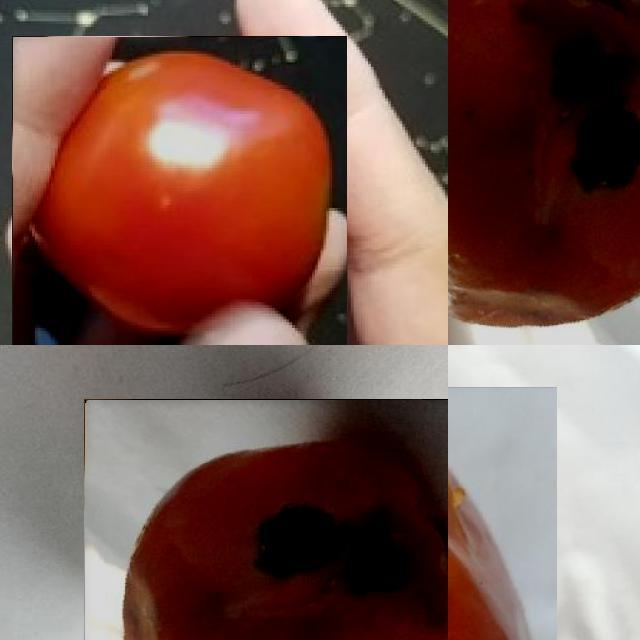Fresh Tomato: (12, 36, 346, 345)
Rotten Tomato: (84, 398, 448, 640), (448, 0, 640, 345), (448, 387, 556, 640)
